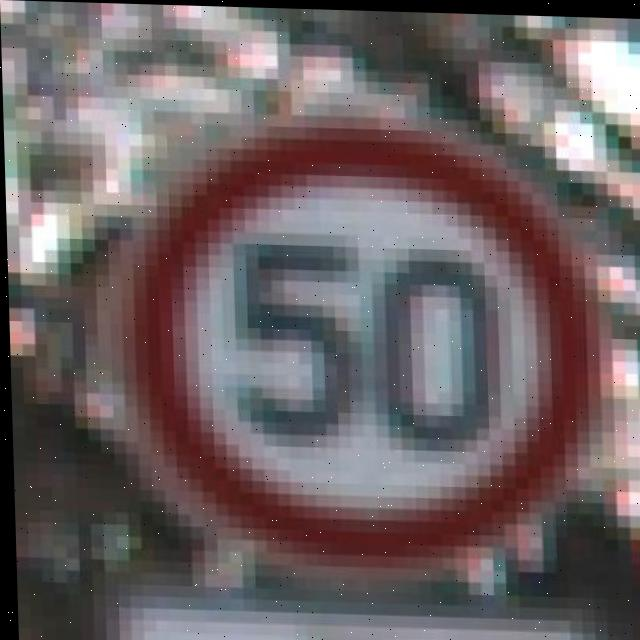Speed limit 50: (122, 116, 608, 575)
